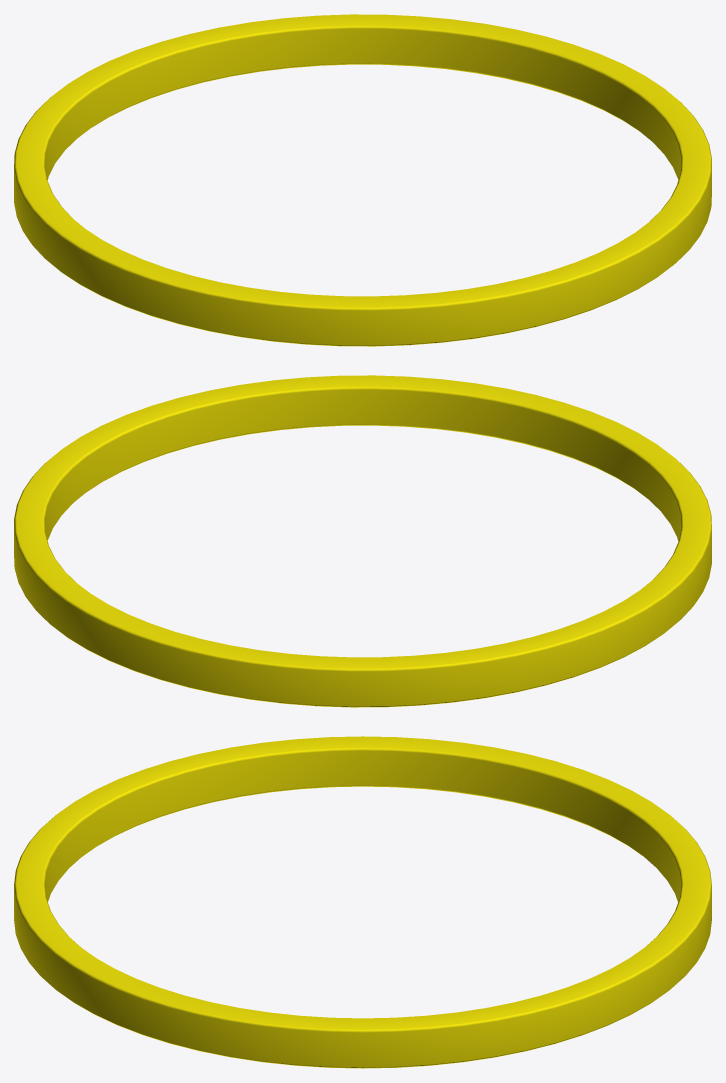
The picture shows the model from 3 angles, top to bottom: view 1: azimuth 30°, elevation 25°; view 2: azimuth 150°, elevation 25°; view 3: azimuth 270°, elevation 25°; orthographic projection.
Parts seen in each view (by area): view 1: seal_body; view 2: seal_body; view 3: seal_body.
Boxes of the visible parts, bbox=[...] form: seal_body: bbox=[14, 14, 711, 346]; seal_body: bbox=[14, 375, 711, 707]; seal_body: bbox=[14, 736, 711, 1068].
Size of the model in its own units: 0.1533 by 0.00952 by 0.1533.
